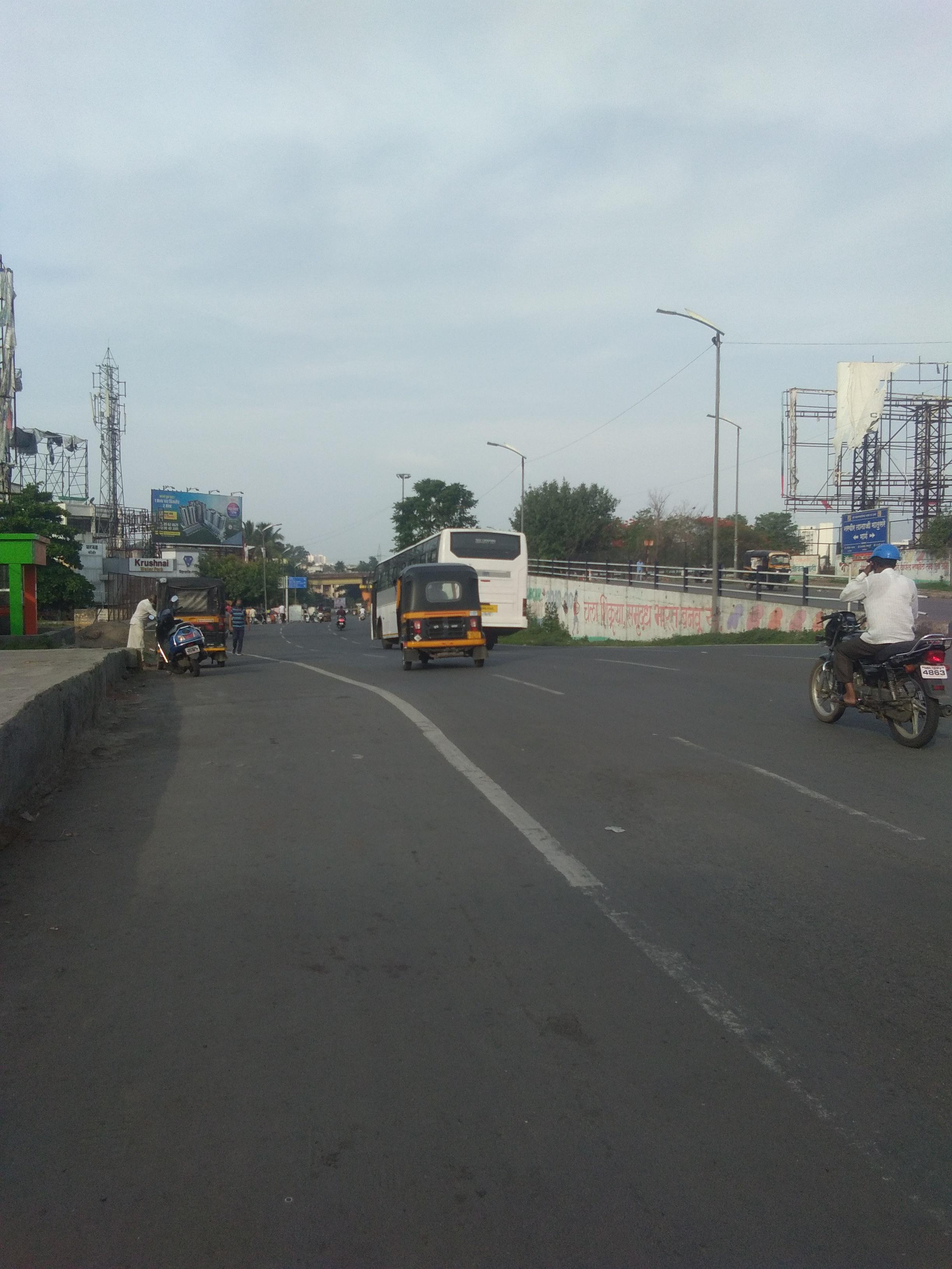Non-emergency: (328, 524, 568, 676)
